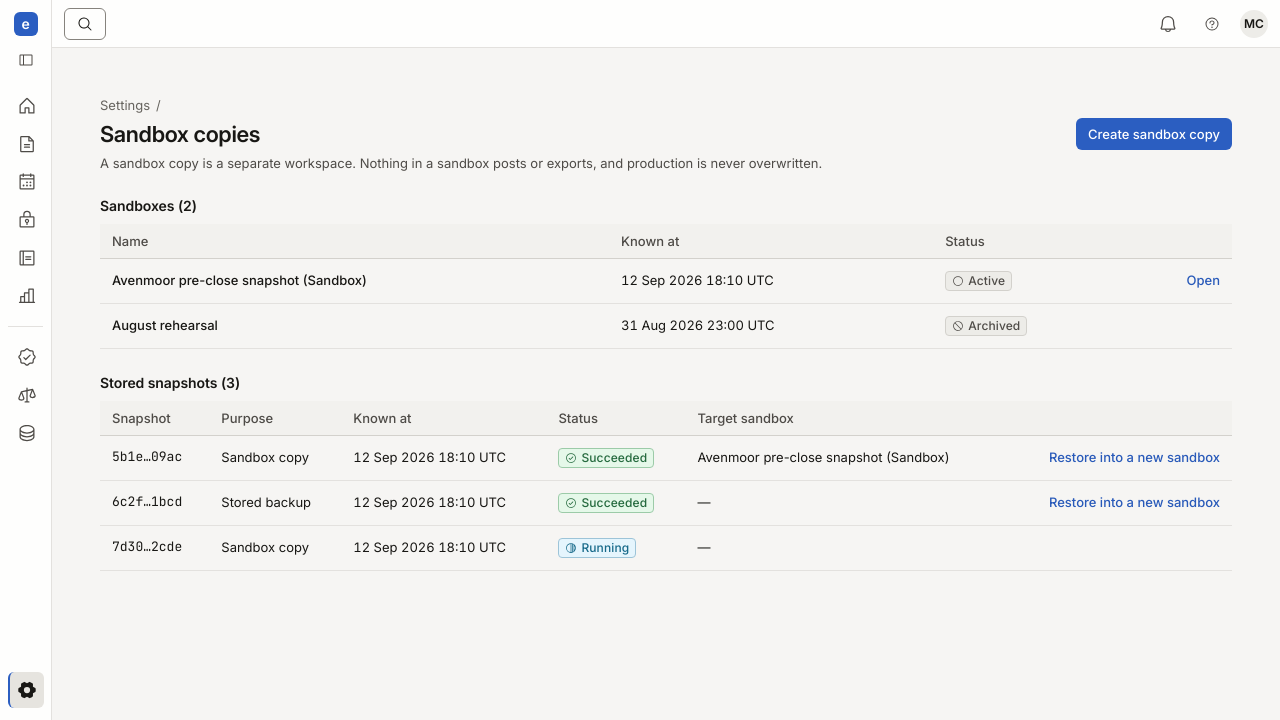
SF-15:sandbox › no reset in production
The image size is (1280, 720).
Expected: the heading "Sandbox copies" is shown, [100,120,260,148]
Expected: the heading "Sandboxes (2)" is shown, [100,197,197,214]
Click the button "Restore into a new sandbox" in the row of "6c2f…1bcd". click: (1134, 502)
box: [1049,493,1220,511]
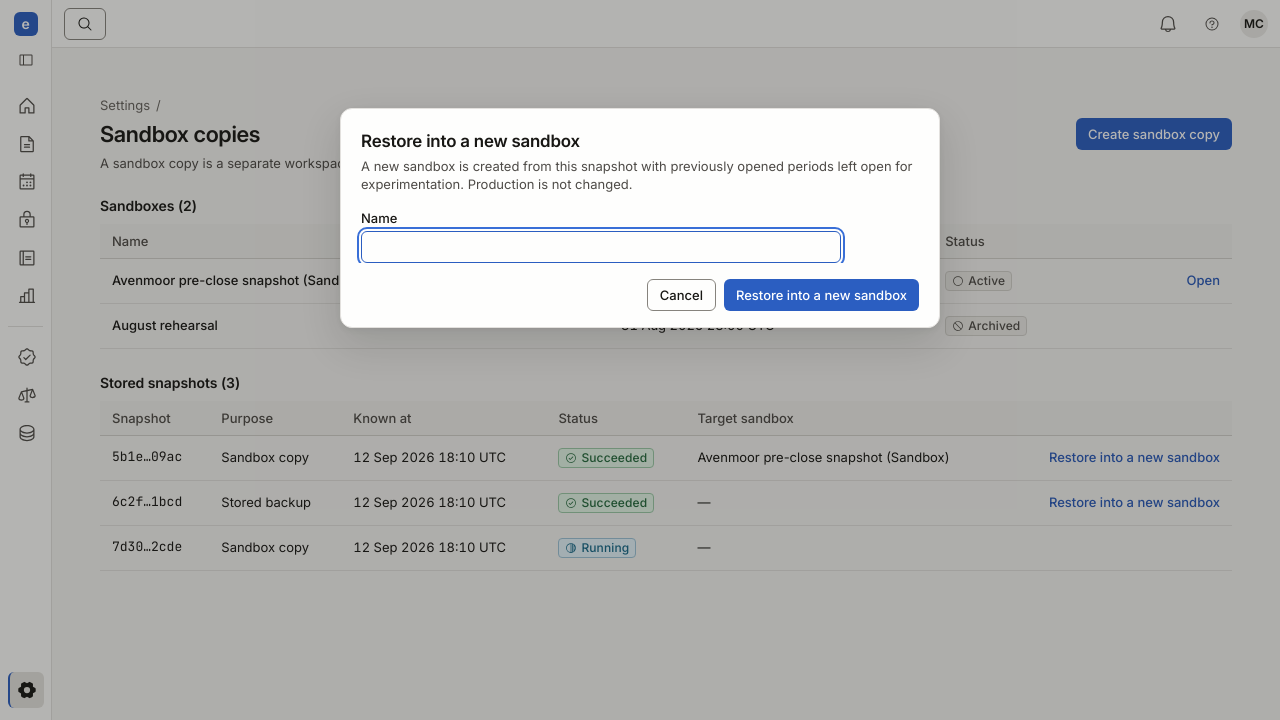
Expected: the text "A new sandbox is created from this snapshot with previously opened periods left open for experimentation. Production is " is shown, [361,158,912,192]
Click the button "Restore into a new sandbox". click: (822, 295)
box: [724,279,919,311]
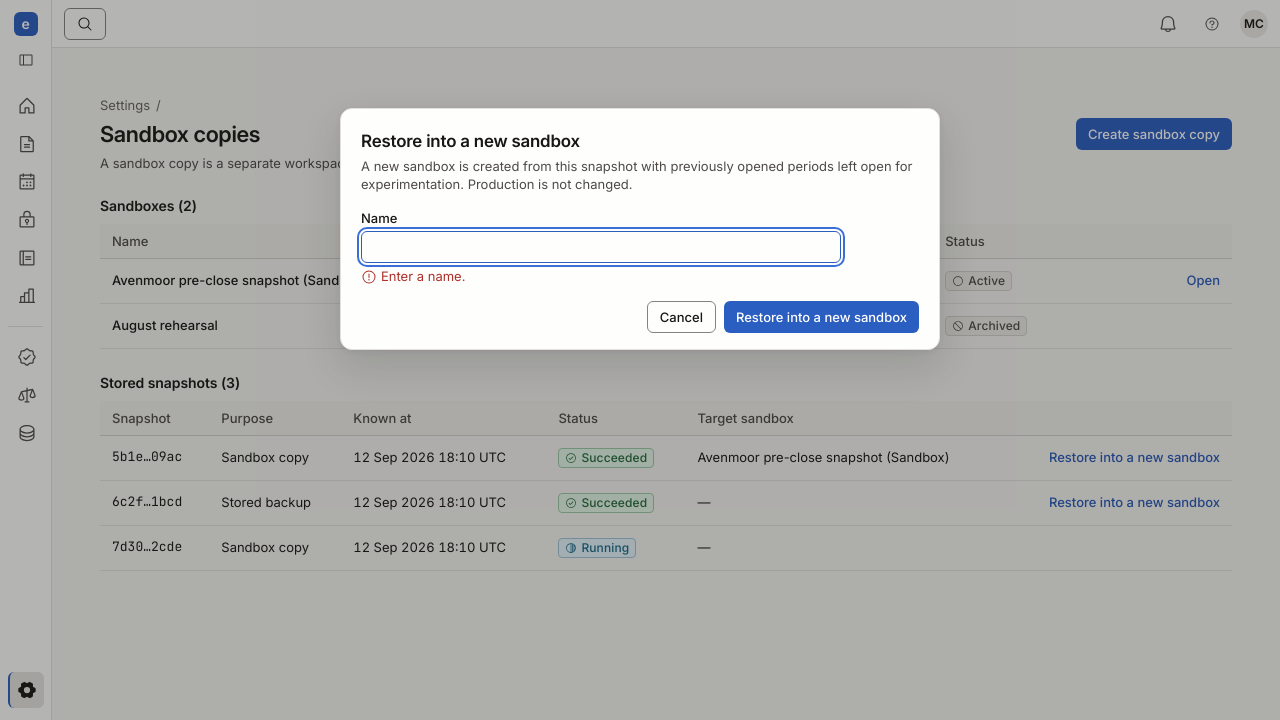
Expected: the text "Enter a name." is shown, [361,268,465,285]
Type "  September restore  " into the field labelled "Name". click: (601, 247)
box: [361,231,841,263]
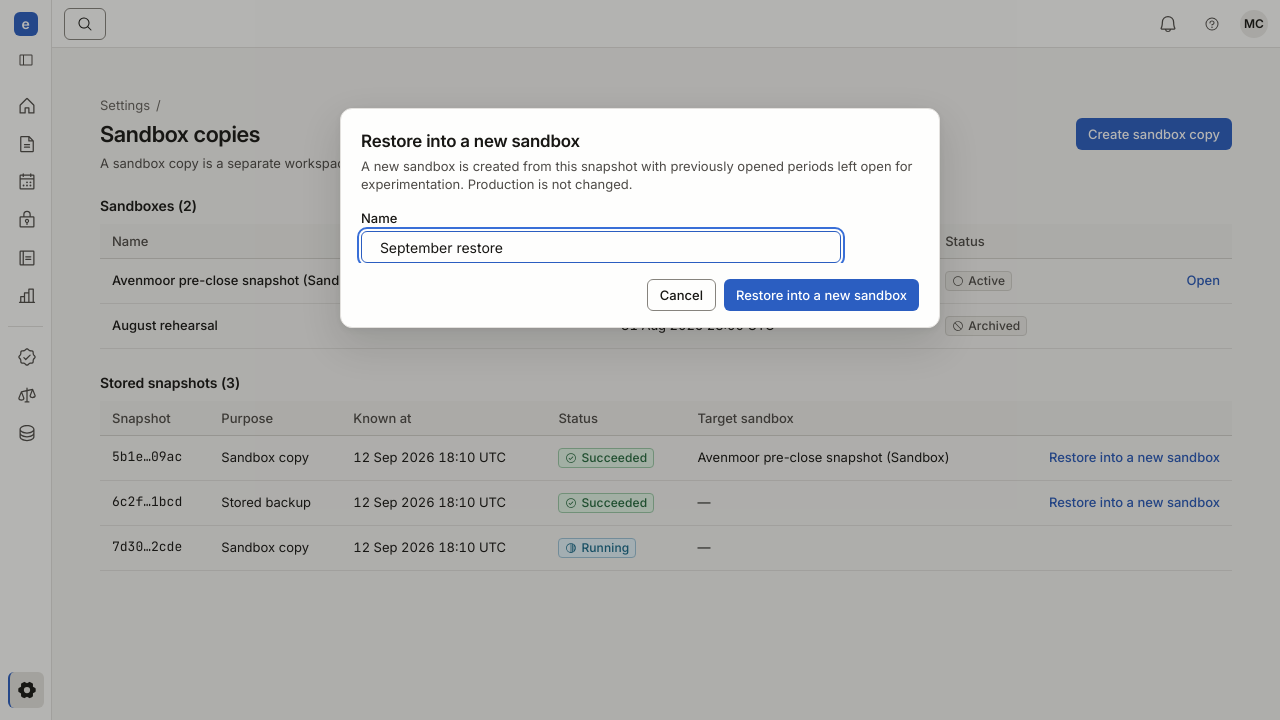
Click the button "Restore into a new sandbox". click: (822, 295)
box: [724,279,919,311]
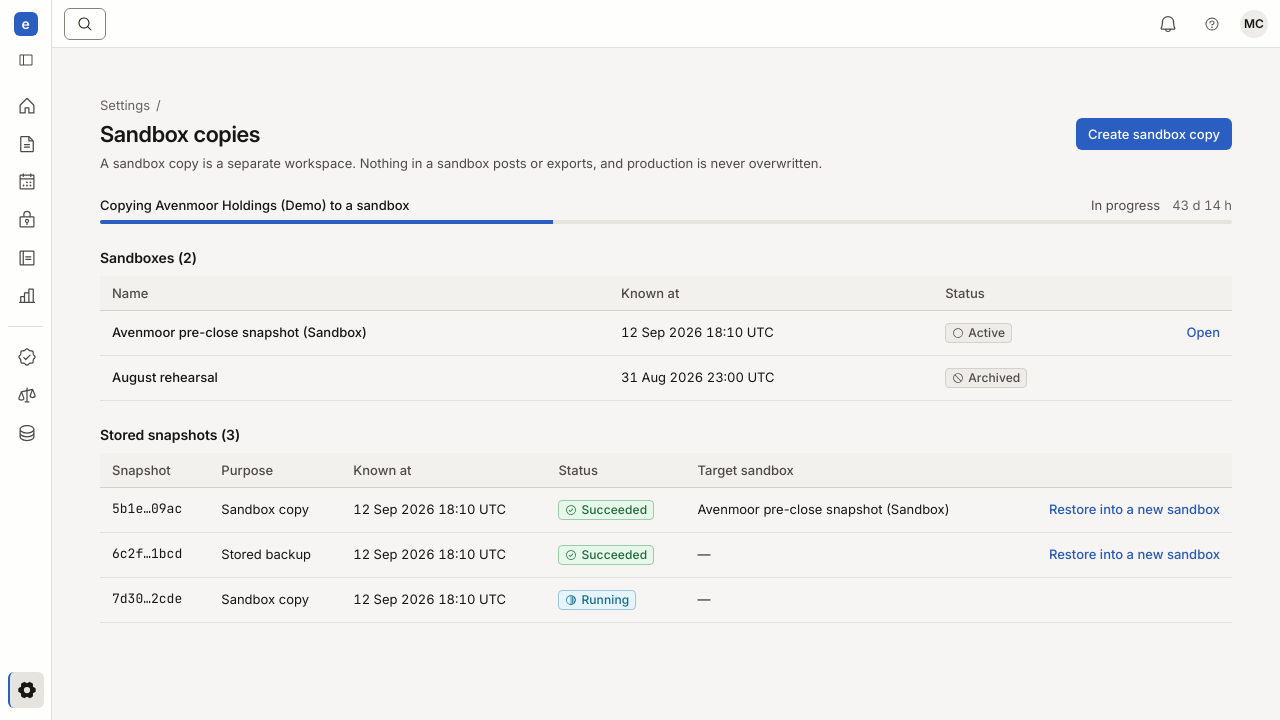
Expected: the progress indicator named "Copying Avenmoor Holdings (Demo) to a sandbox" is shown, [100,220,1232,224]
Expected: the dialog is gone
